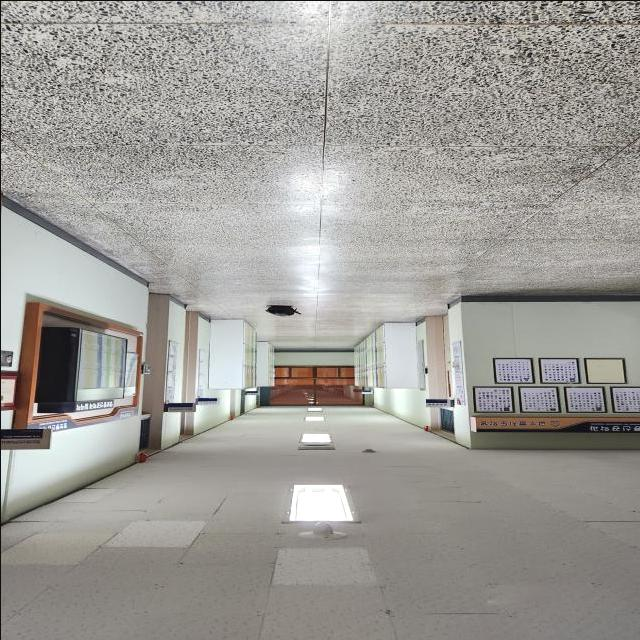black_bag: (265, 300, 298, 318)
